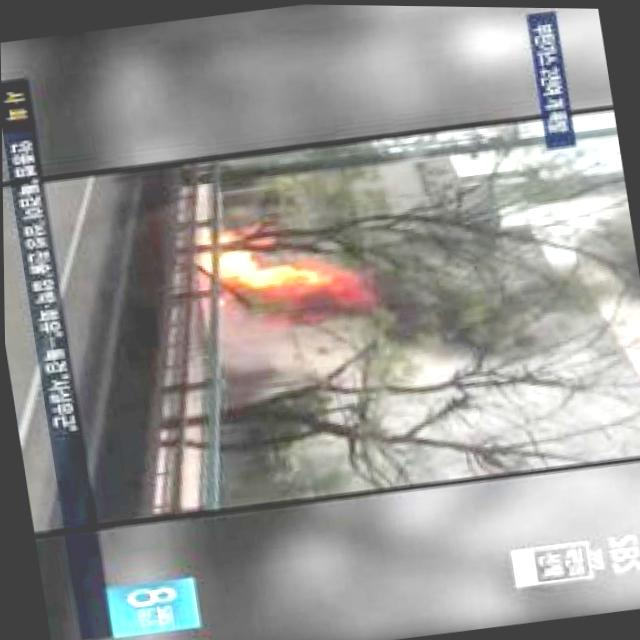helmet: (190, 208, 385, 333)
